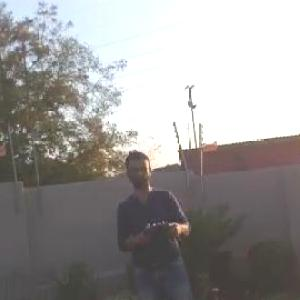follow: (111, 140, 209, 299)
